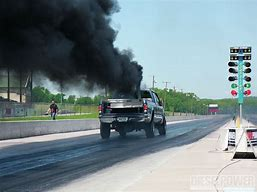smoke: (1, 1, 142, 93)
